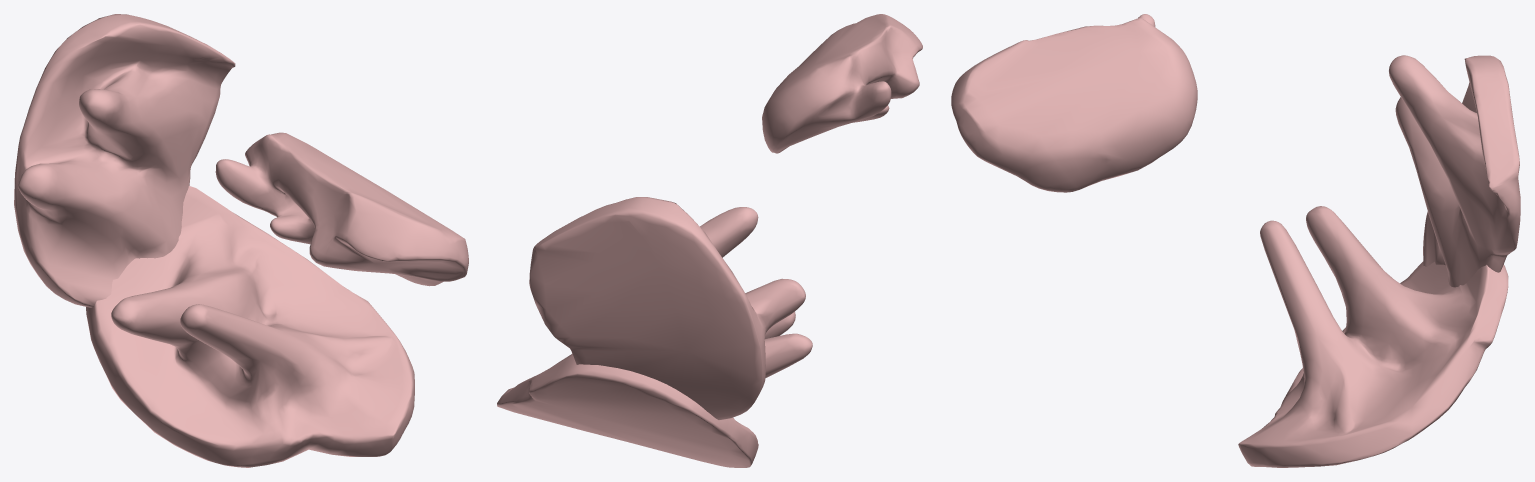
Rendered from papillary-right.glb.
The picture shows the model from 3 angles, left to right: view 1: azimuth 30°, elevation 25°; view 2: azimuth 150°, elevation 25°; view 3: azimuth 270°, elevation 25°; orthographic projection. The views are drawn at different scales.
Parts seen in each view (by area): view 1: structure; view 2: structure; view 3: structure.
Part boxes in pixels (left/top/right/bottom): structure: left=14, top=14, right=468, bottom=467; structure: left=497, top=14, right=922, bottom=467; structure: left=951, top=14, right=1520, bottom=467.
Bounding box in the file's own units: 40.03 × 44.47 × 61.66.
